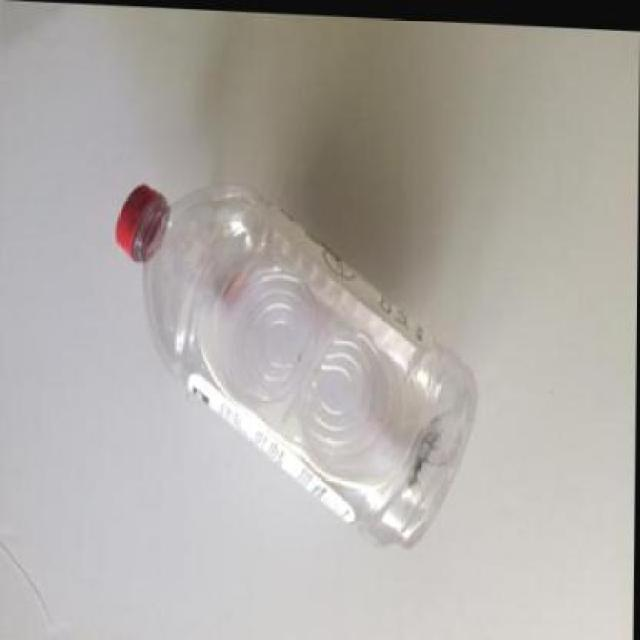Plastic: (110, 173, 487, 556)
